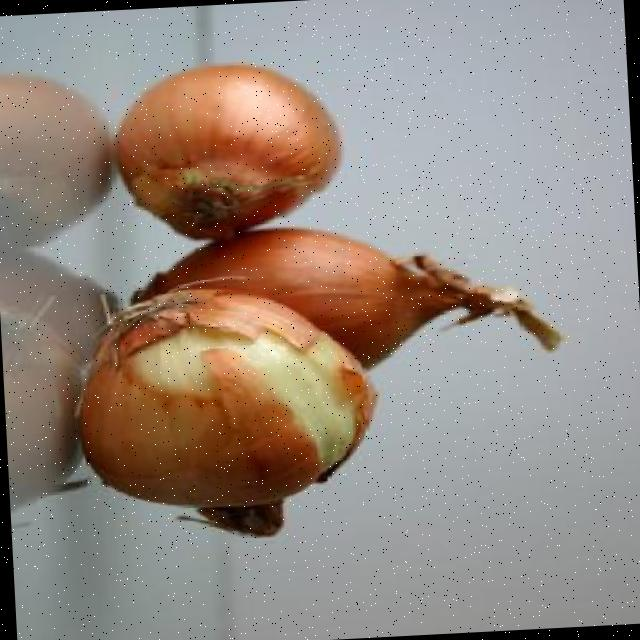Onion: (81, 282, 375, 538), (133, 230, 561, 370), (116, 65, 340, 239)
